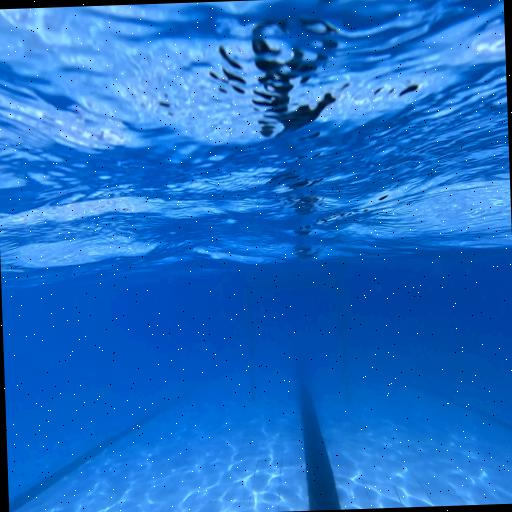gate: (246, 282, 351, 402)
